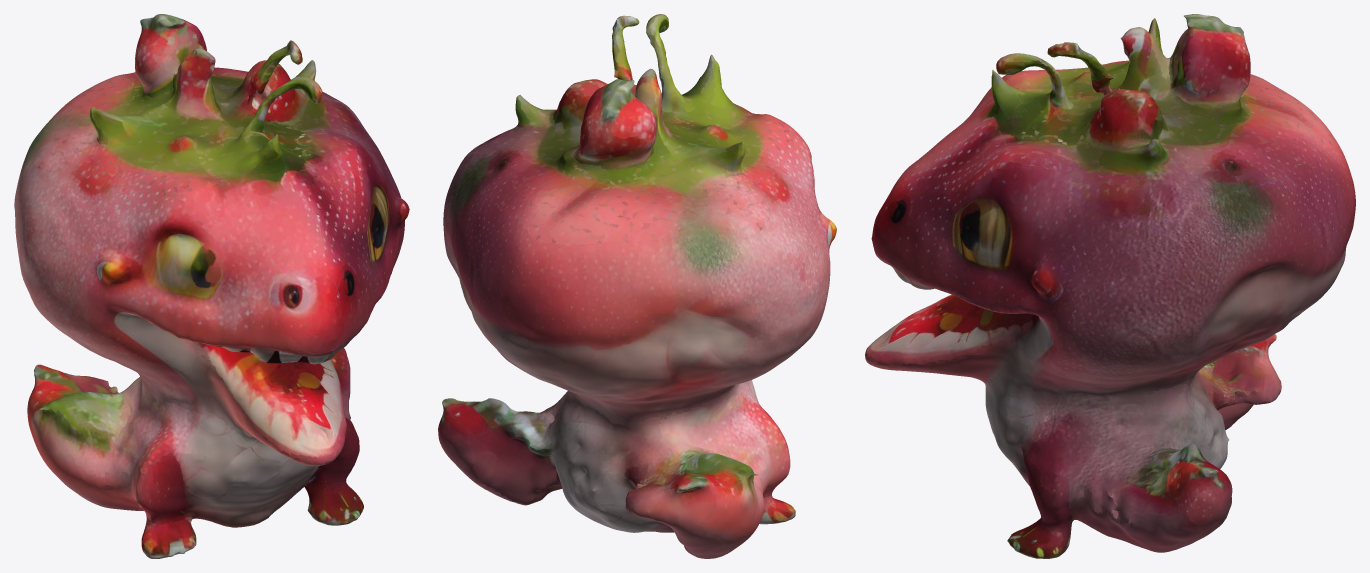
3 renders of one model, left to right at view 1: azimuth 30°, elevation 25°; view 2: azimuth 150°, elevation 25°; view 3: azimuth 270°, elevation 25°, orthographic. The views are drawn at different scales.
Parts seen in each view (by area): view 1: world; view 2: world; view 3: world.
Boxes of the visible parts, x1,y1,x2,y2 form: world: [14, 14, 409, 558]; world: [438, 14, 836, 558]; world: [865, 14, 1355, 558].
Size of the model in its own units: 1.55 by 1.97 by 1.79.
1 material, 1 textured.
